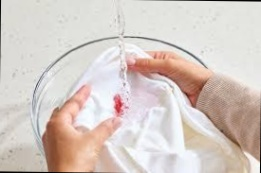blood: (113, 94, 129, 115)
